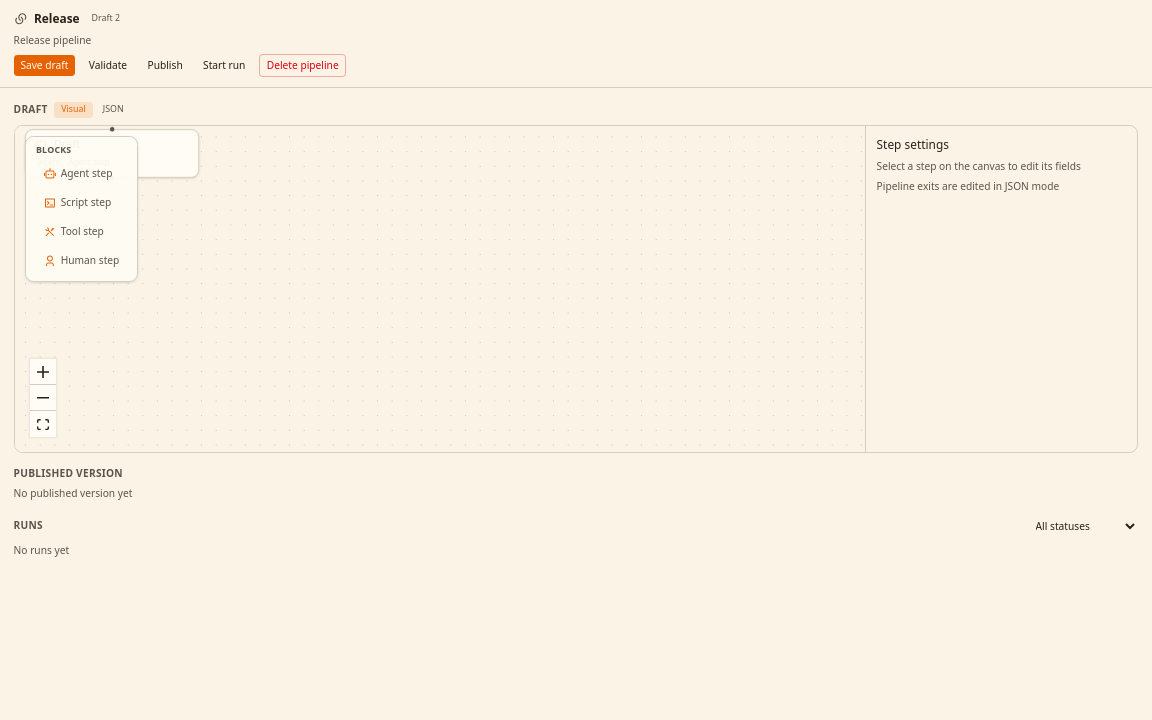
it: Страница пайплайна — «Проверить» и «Сохранить черновик» › невалидная спецификация: показаны проблемы (validatePipelineSpec)
The image size is (1152, 720).
Click the button "Validate": {"x": 108, "y": 66} [82,55,134,76]
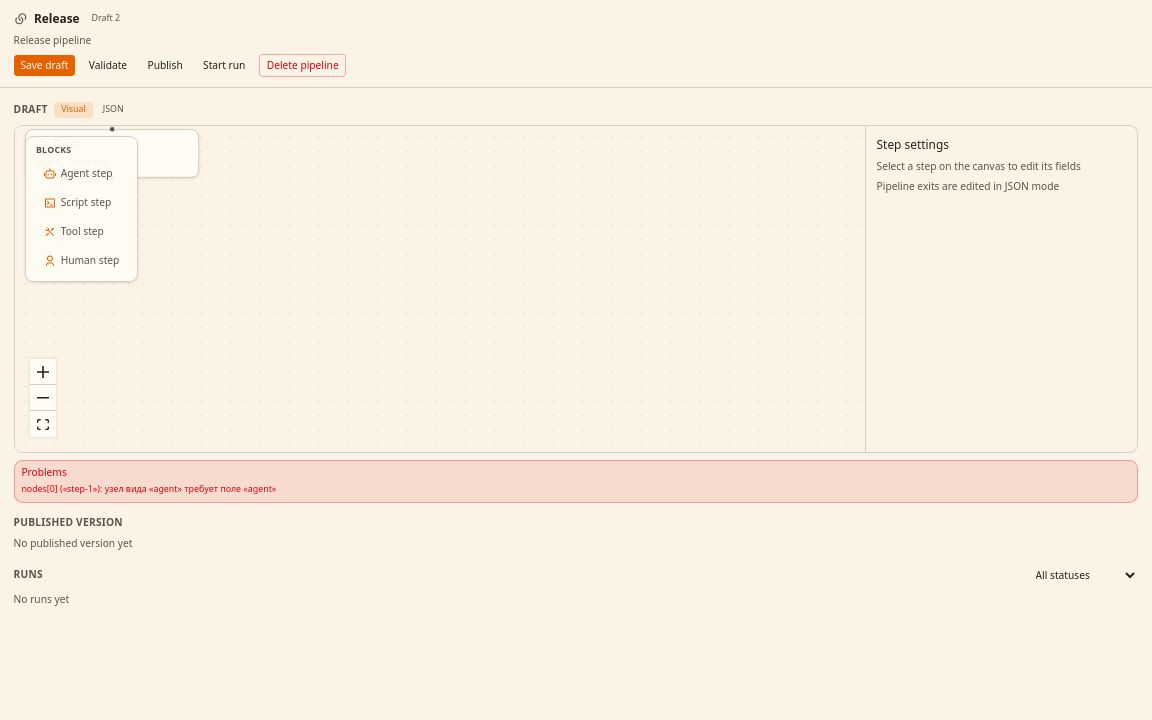
Now the element with test id "pipeline-validation" is shown, box [14,460,1138,503]
Now the element with test id "pipeline-validation" shows "Problems", box [21,465,67,479]
Now the element with test id "pipeline-validation" shows "step-1", box [21,483,276,495]
